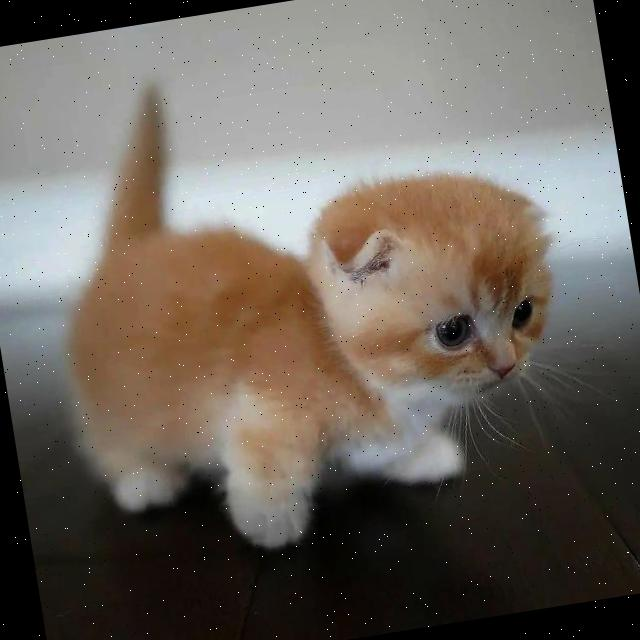cat: (26, 125, 594, 576)
